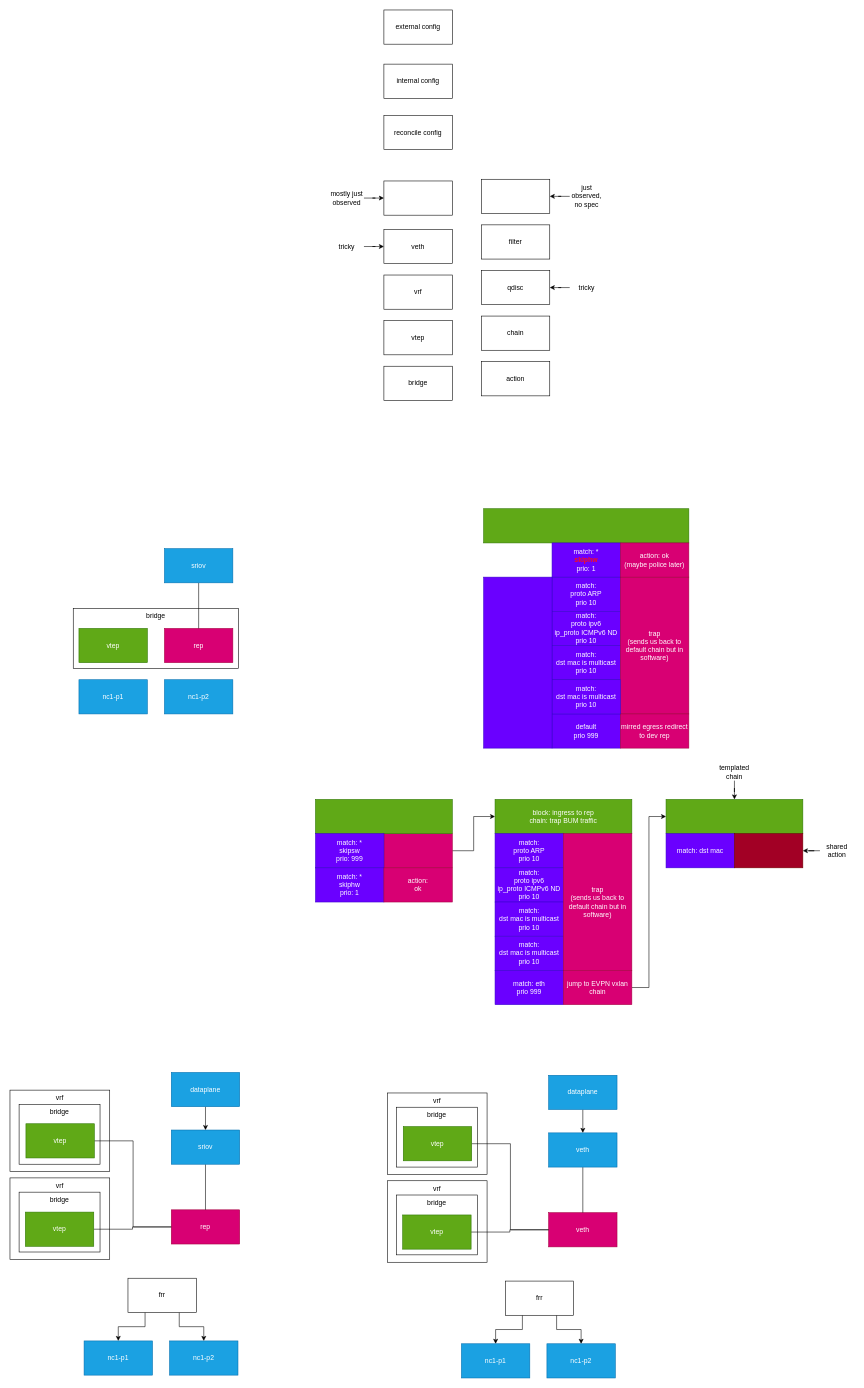
Some shapes in this 864 by 1388 pixel diagram are drawn without their labels. Each missing label, with the centre of its shape:
action: jump to decap table: point (417, 850)
block: ingress to rep chain: default: point (383, 816)
block: ingress to rep chain: evpn vxlan: point (734, 816)
block: ingress to vtep chain: default: point (586, 525)
fdb: point (515, 196)
match: enc_key_id X enc_dst_ip loopback enc_dst_port: 4789: point (517, 662)
mirred egress redirect dev vtep: point (768, 850)
mlx5: point (417, 197)
